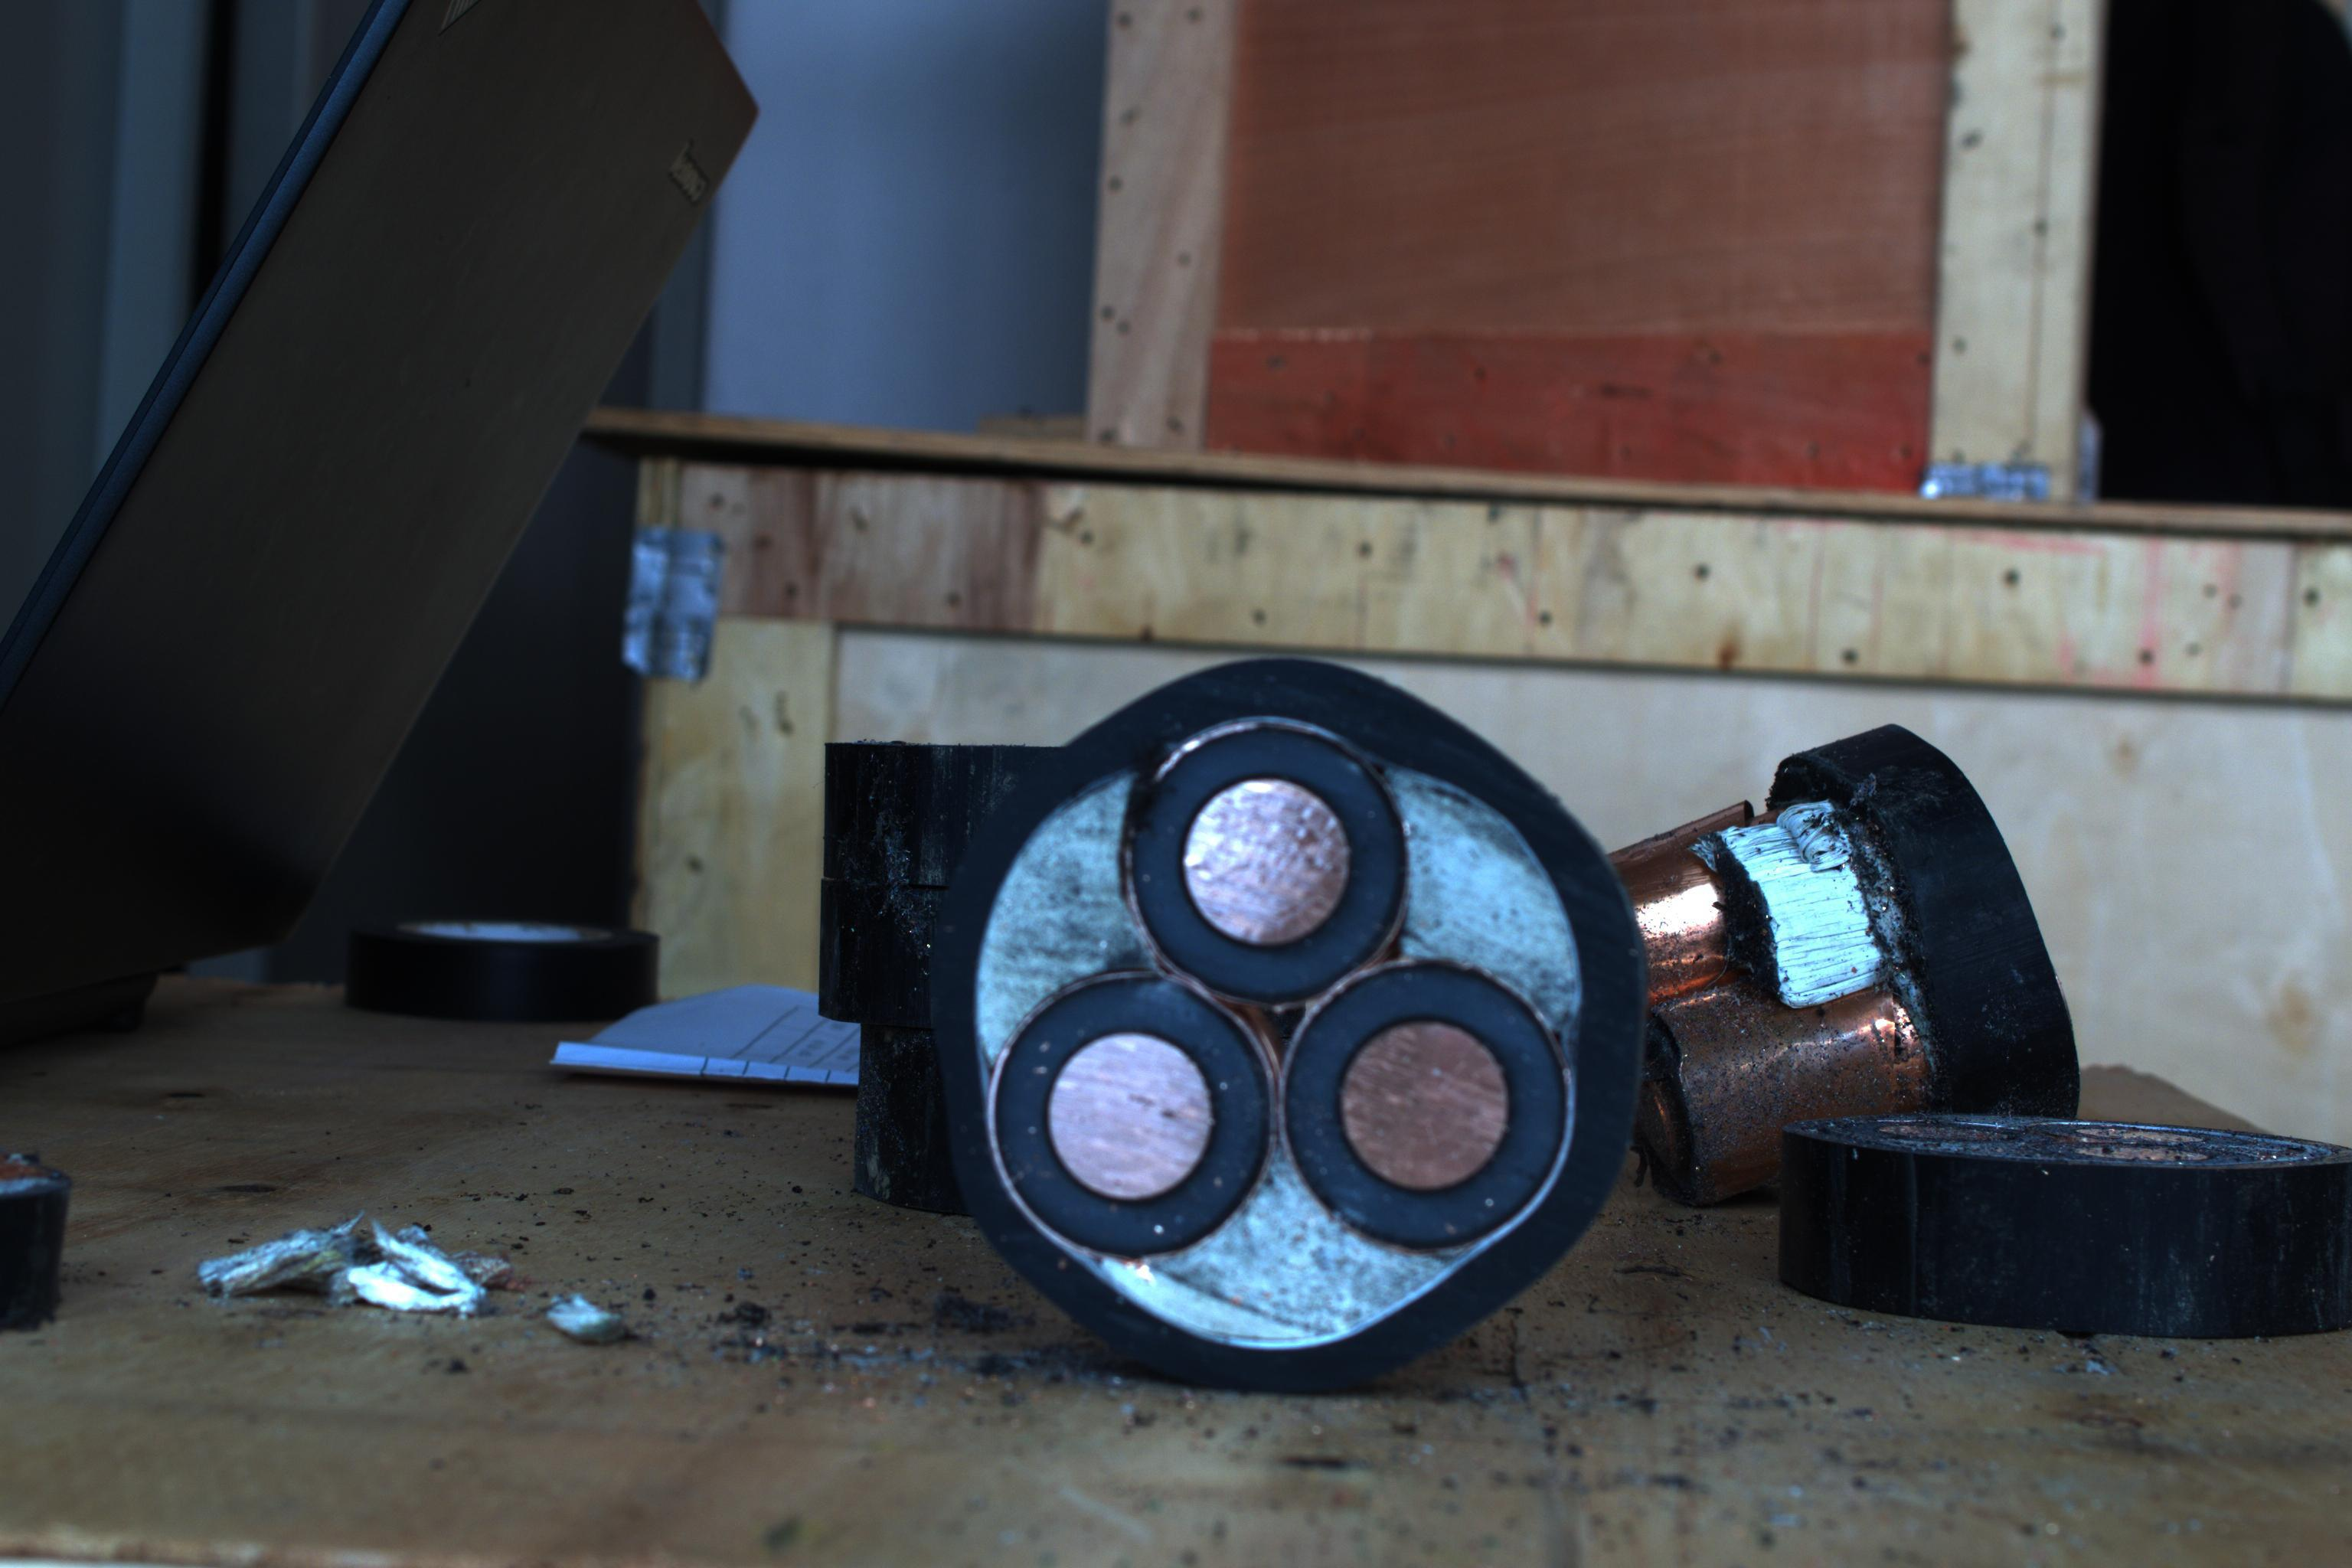ZA_YJV_8.7_10kV_3x240: (966, 705, 1645, 1363)
